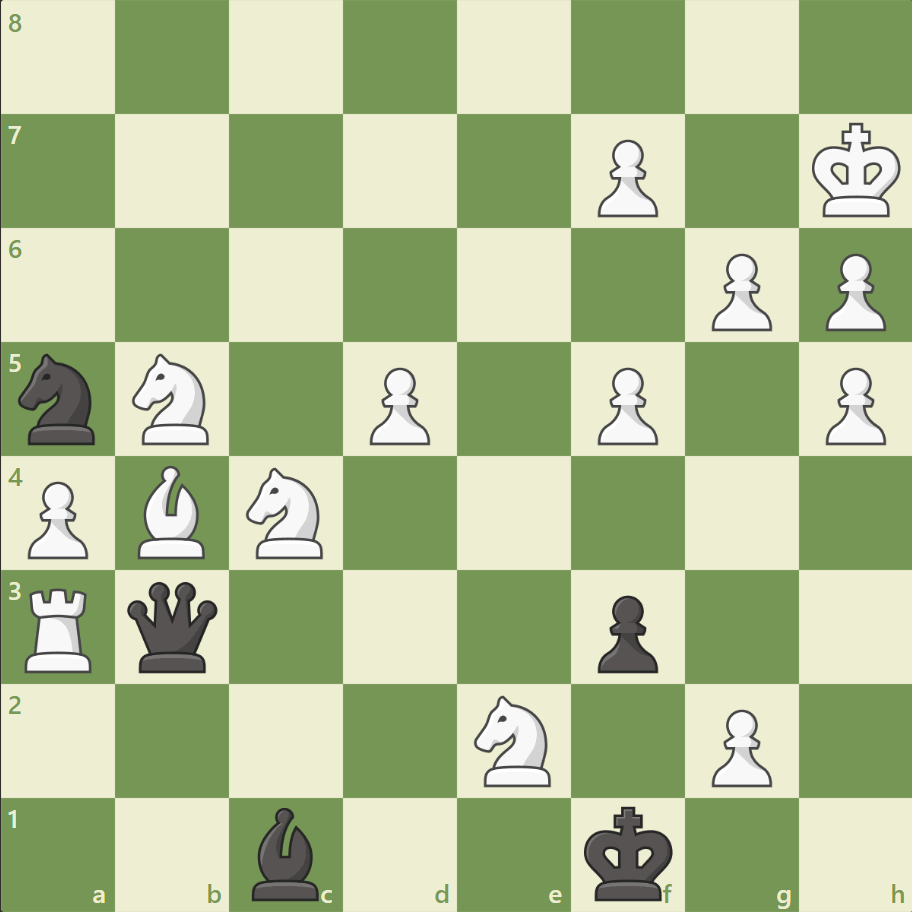B: (131, 460, 215, 563)
K: (806, 117, 906, 225)
N: (124, 348, 222, 450), (238, 461, 335, 564), (465, 688, 562, 791)
P: (701, 246, 776, 337), (20, 473, 95, 564), (701, 700, 776, 791), (588, 132, 662, 223), (815, 246, 889, 337), (361, 359, 435, 450), (588, 359, 662, 450), (815, 359, 889, 450)
R: (19, 579, 102, 676)
b: (244, 801, 328, 904)
k: (579, 798, 679, 906)
n: (11, 348, 108, 450)
p: (588, 586, 662, 677)
q: (124, 576, 223, 676)
